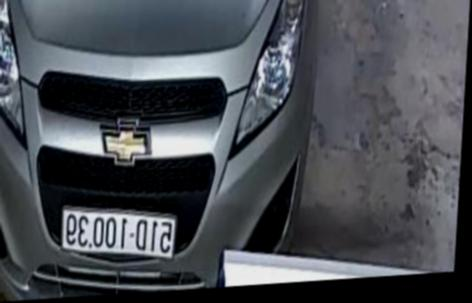License_Plate: (58, 188, 183, 268)
